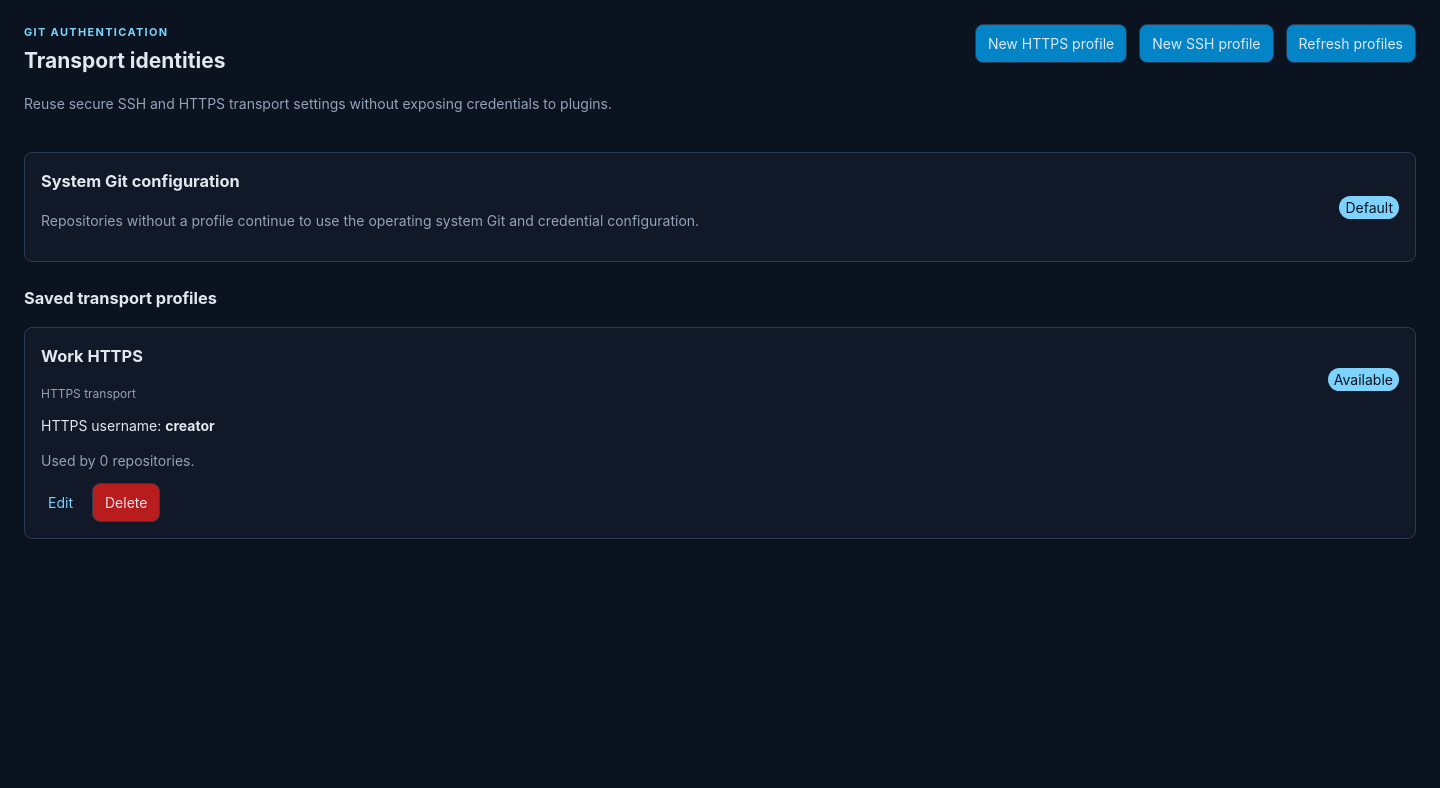
TransportProfilesView › updates an HTTPS profile while keeping useHttpPath enabled
This screenshot has width=1440, height=788.
Click the button with aria-label "Edit Work HTTPS": x=60, y=503 x1=41 y1=487 x2=80 y2=518
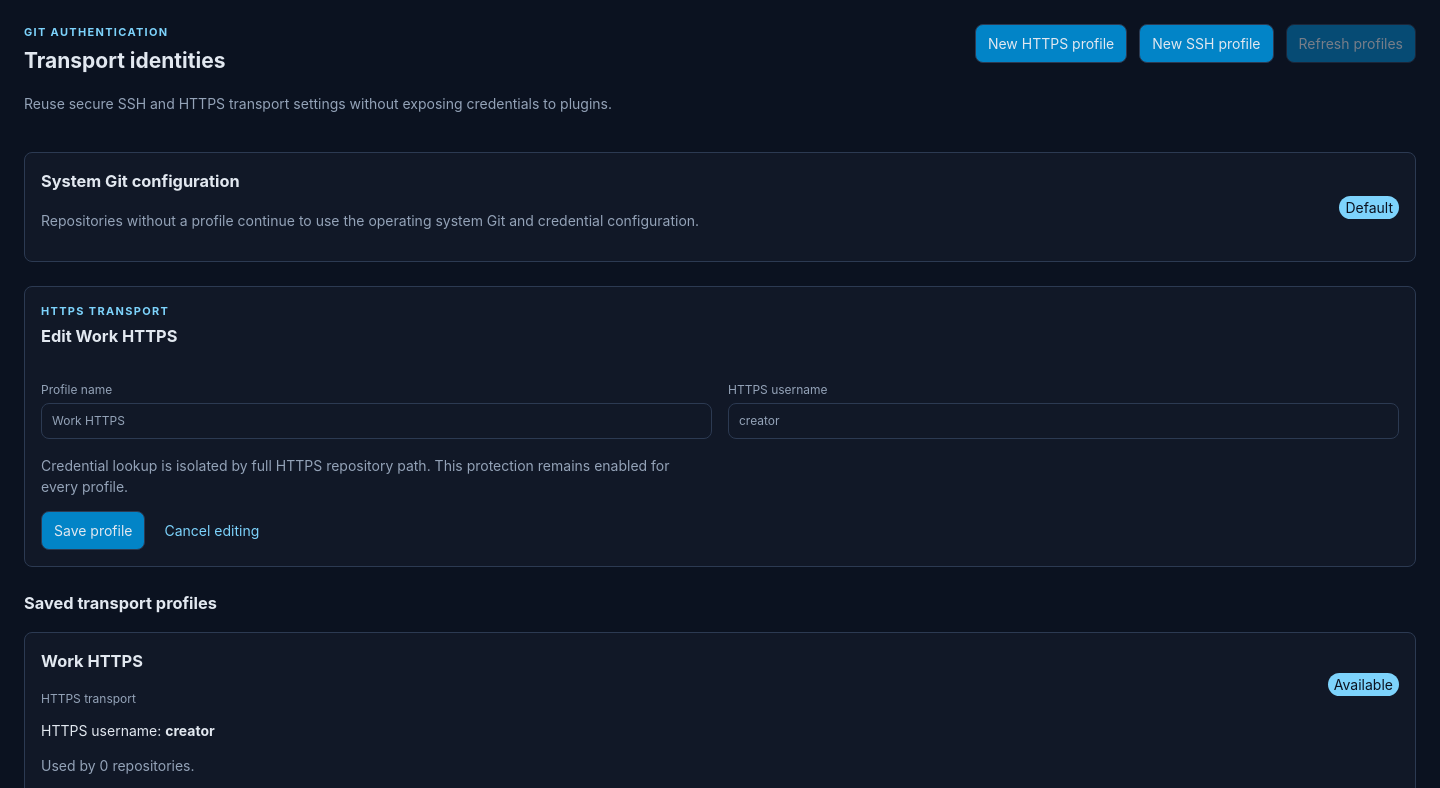
Replace the text in the field labelled "Profile name" with "Primary HTTPS": x=376, y=421 x1=41 y1=403 x2=712 y2=439
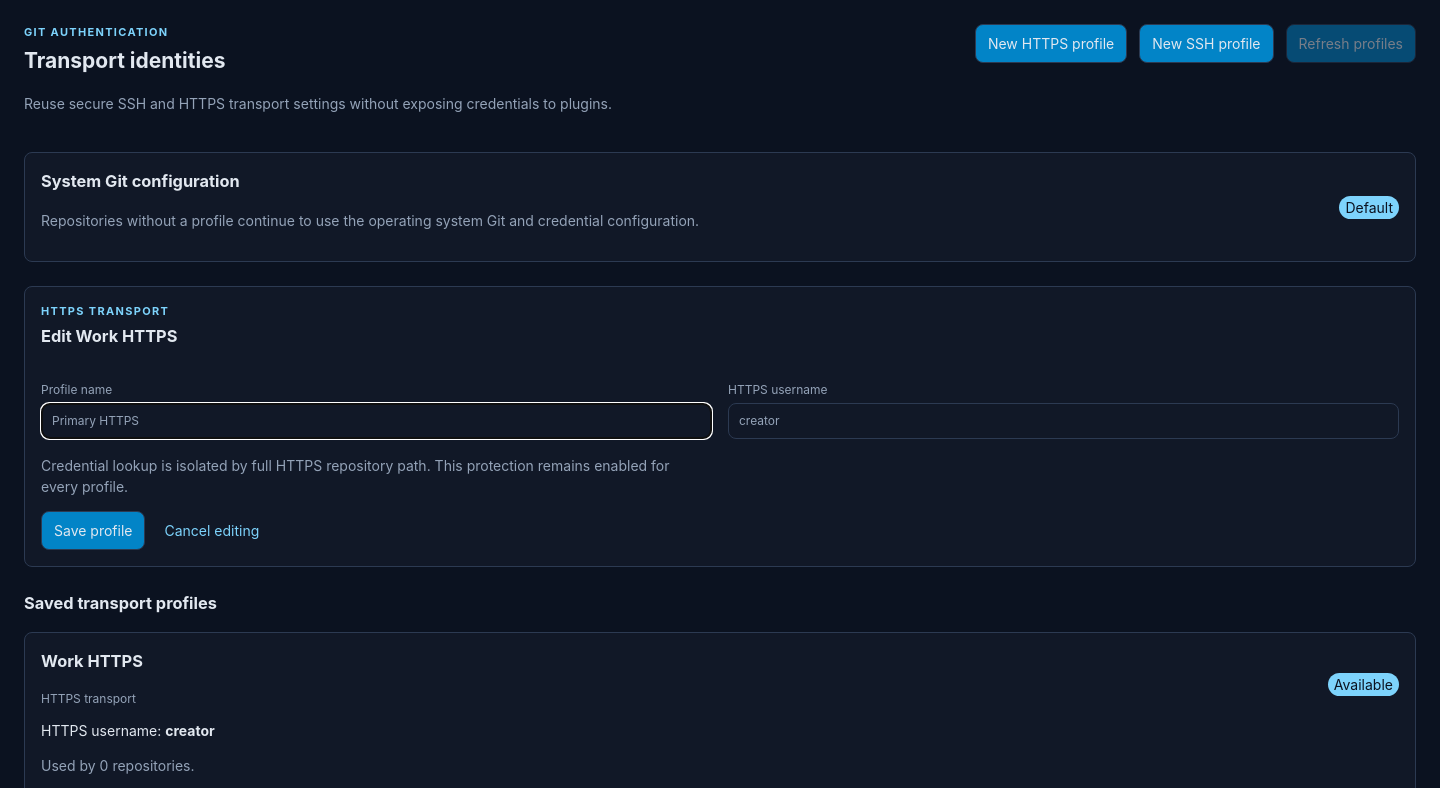
Replace the text in the field labelled "HTTPS username" with "release-bot": x=1064, y=421 x1=728 y1=403 x2=1399 y2=439
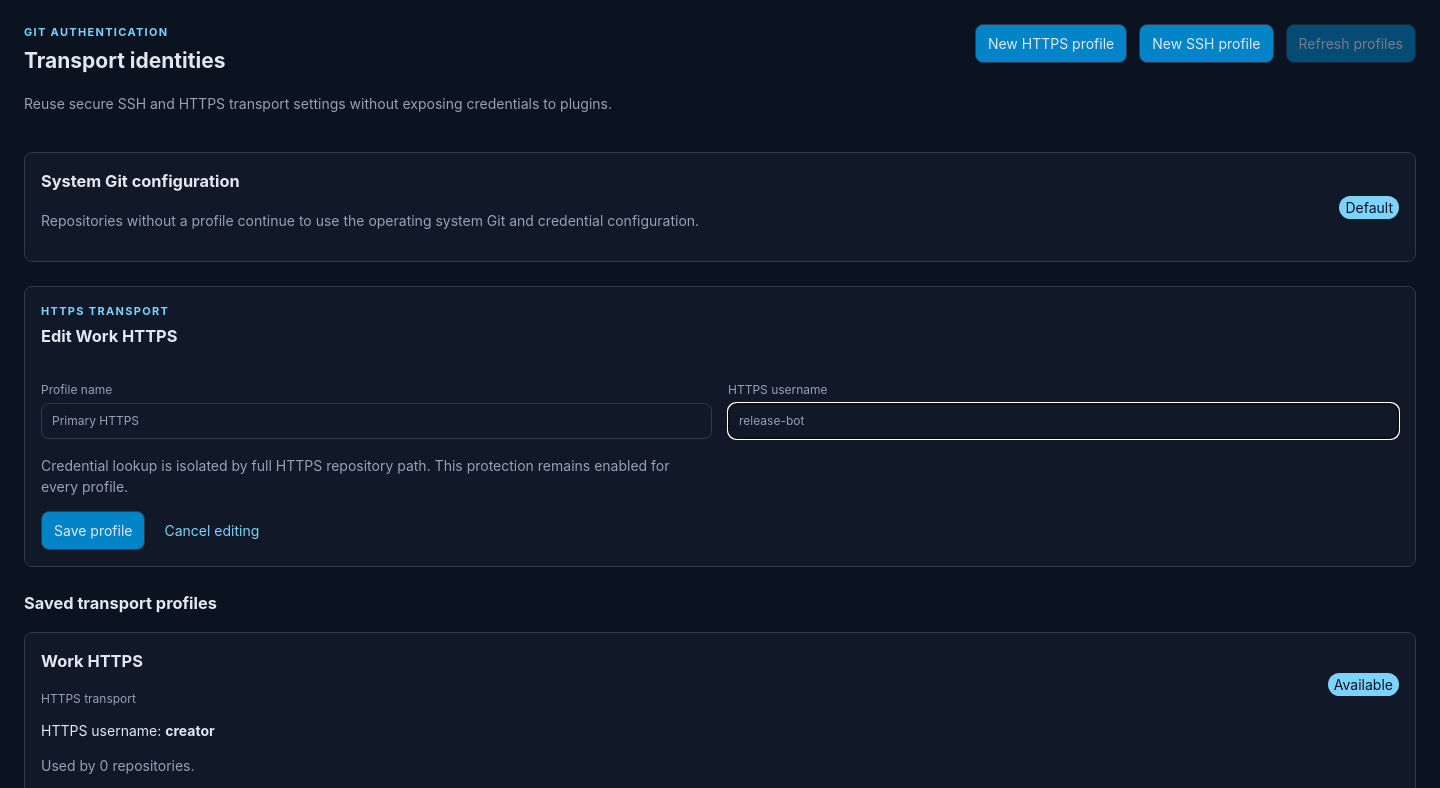
Click the button "Save profile": x=93, y=530 x1=41 y1=511 x2=146 y2=550
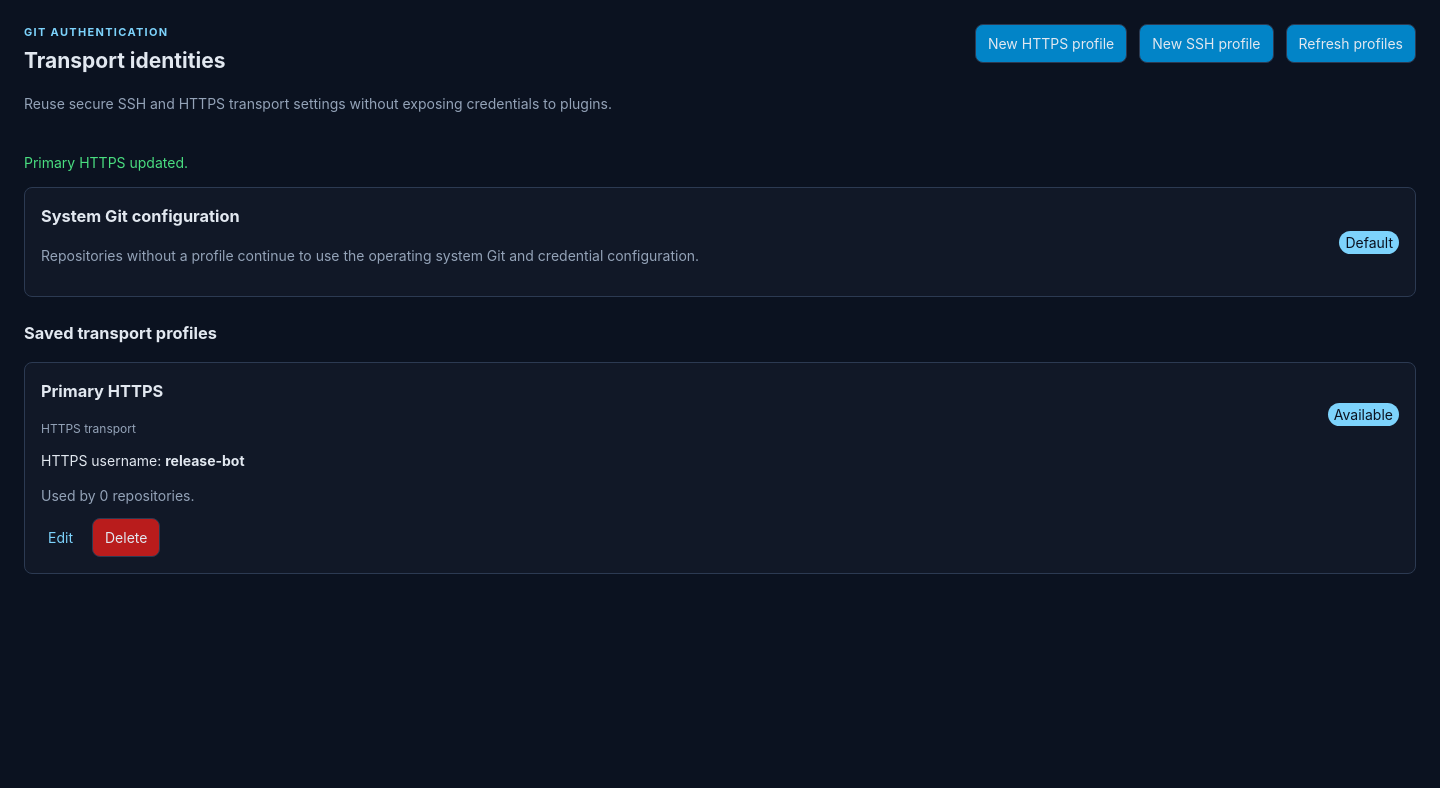
Check: the heading "Primary HTTPS" is shown, box x1=41 y1=379 x2=163 y2=404
